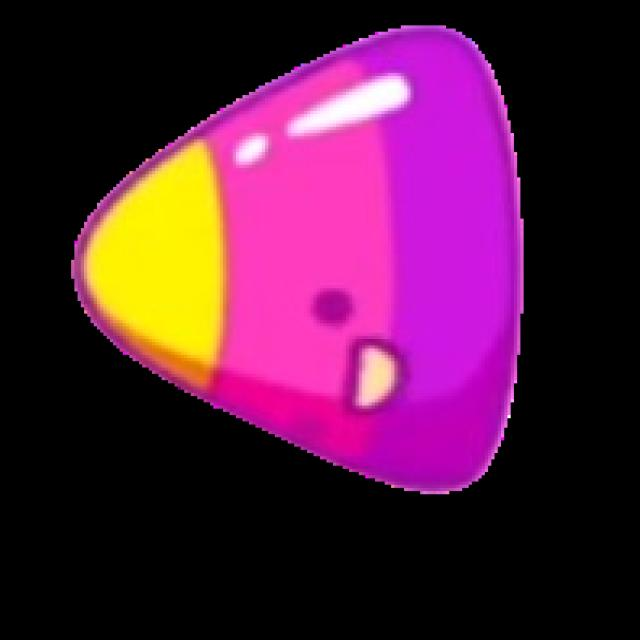jian: (68, 22, 524, 498)
